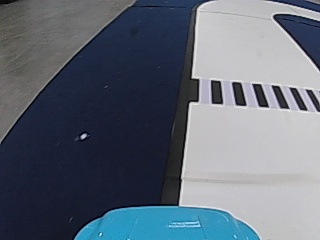CrossWalk: (194, 79, 315, 109)
